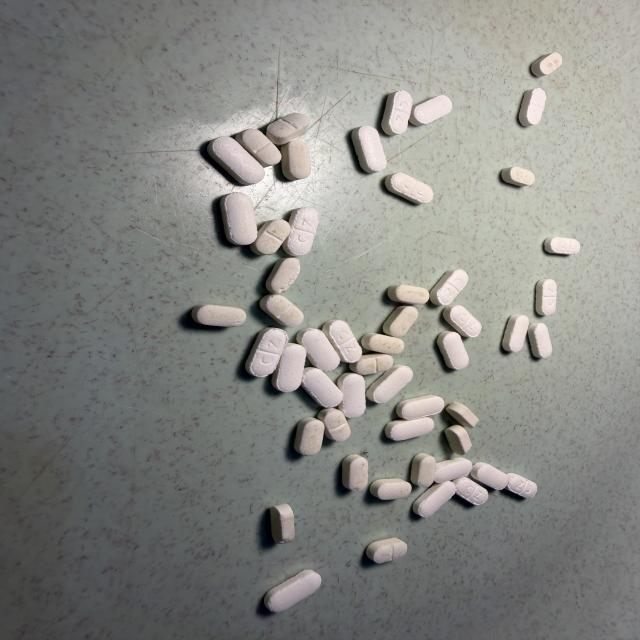pill: (207, 137, 264, 185), (264, 570, 321, 612), (246, 328, 288, 377), (221, 192, 257, 245), (297, 328, 340, 370), (367, 365, 413, 403), (236, 129, 281, 167), (283, 208, 319, 255), (272, 343, 306, 392), (323, 320, 362, 362), (352, 126, 386, 173), (302, 368, 342, 407), (385, 173, 433, 204), (413, 482, 455, 517), (429, 269, 468, 305), (250, 220, 290, 255), (260, 295, 303, 327), (382, 90, 412, 135), (267, 113, 309, 145), (410, 95, 452, 125), (337, 373, 365, 417), (281, 140, 311, 180), (266, 258, 300, 293), (444, 305, 481, 337), (192, 305, 246, 326), (385, 417, 434, 440), (438, 332, 468, 369), (294, 418, 324, 455), (396, 396, 444, 419), (318, 408, 350, 442), (383, 306, 418, 337), (518, 88, 546, 126), (366, 538, 407, 563), (471, 462, 508, 489), (503, 315, 529, 352), (350, 353, 393, 375), (453, 478, 488, 505), (270, 504, 294, 543), (435, 458, 472, 483), (362, 333, 404, 355), (342, 455, 368, 490), (411, 453, 436, 488), (528, 323, 552, 358), (447, 402, 479, 428), (370, 479, 411, 499), (535, 279, 557, 315), (388, 285, 429, 304), (531, 52, 562, 77), (445, 425, 471, 454), (507, 474, 537, 498), (501, 167, 534, 186), (544, 237, 580, 254)
